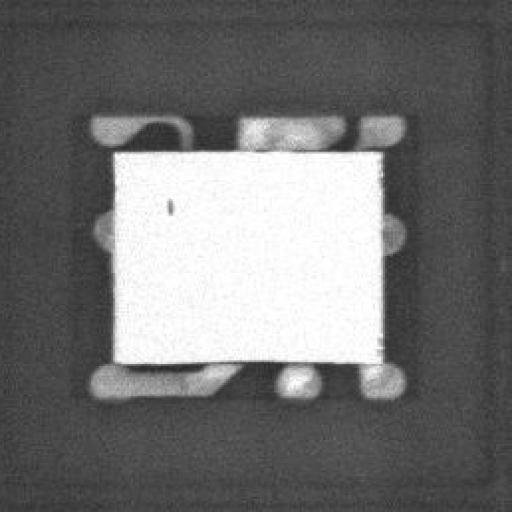DIE_INK: (155, 204, 165, 224)
